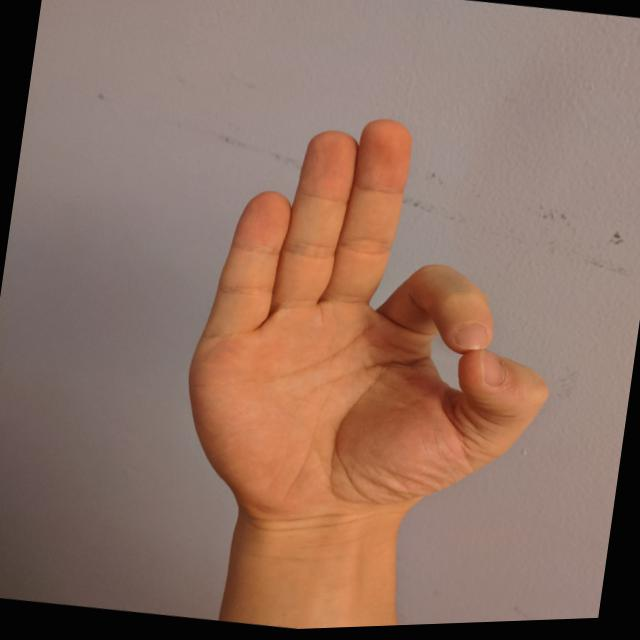F: (163, 86, 594, 575)
